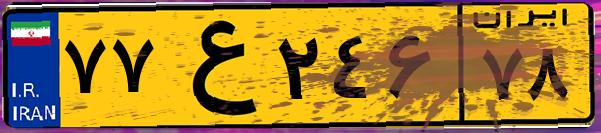2: (270, 28, 330, 110)
4: (330, 28, 385, 110)
6: (385, 28, 445, 110)
7: (57, 26, 110, 100), (475, 38, 525, 113), (110, 28, 158, 98)
8: (525, 38, 570, 115)
ع: (158, 12, 270, 120)
